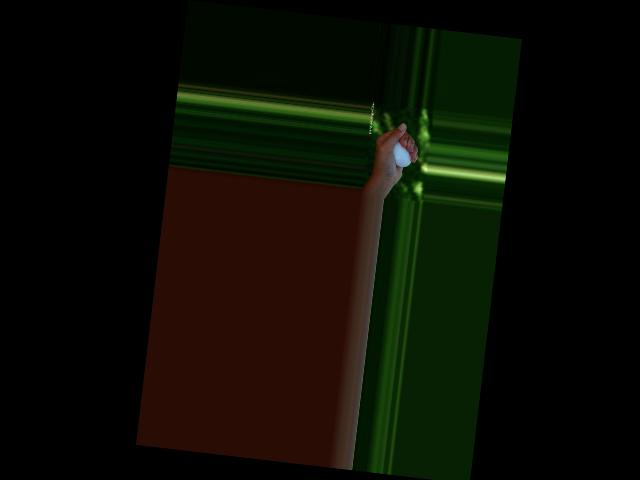egg: (391, 139, 413, 167)
